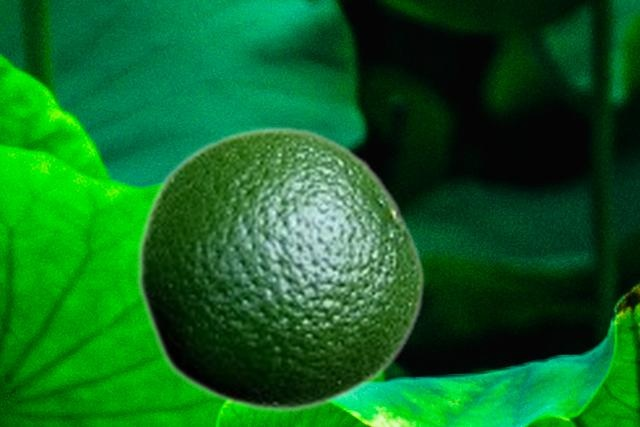calamansi: (135, 125, 425, 413)
